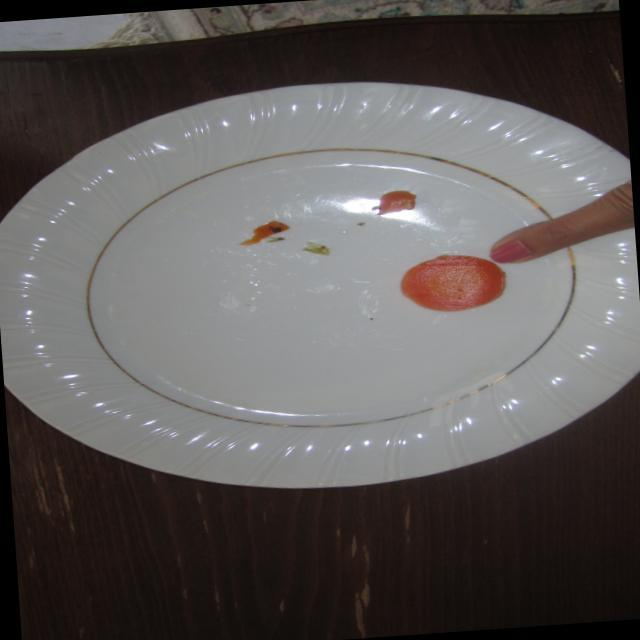Carrot: (397, 250, 515, 316)
Finger: (486, 212, 614, 271)
